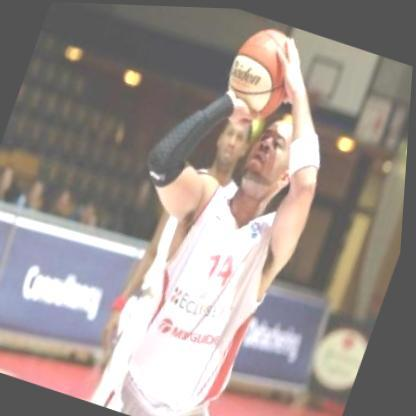basketball: (213, 10, 320, 130)
